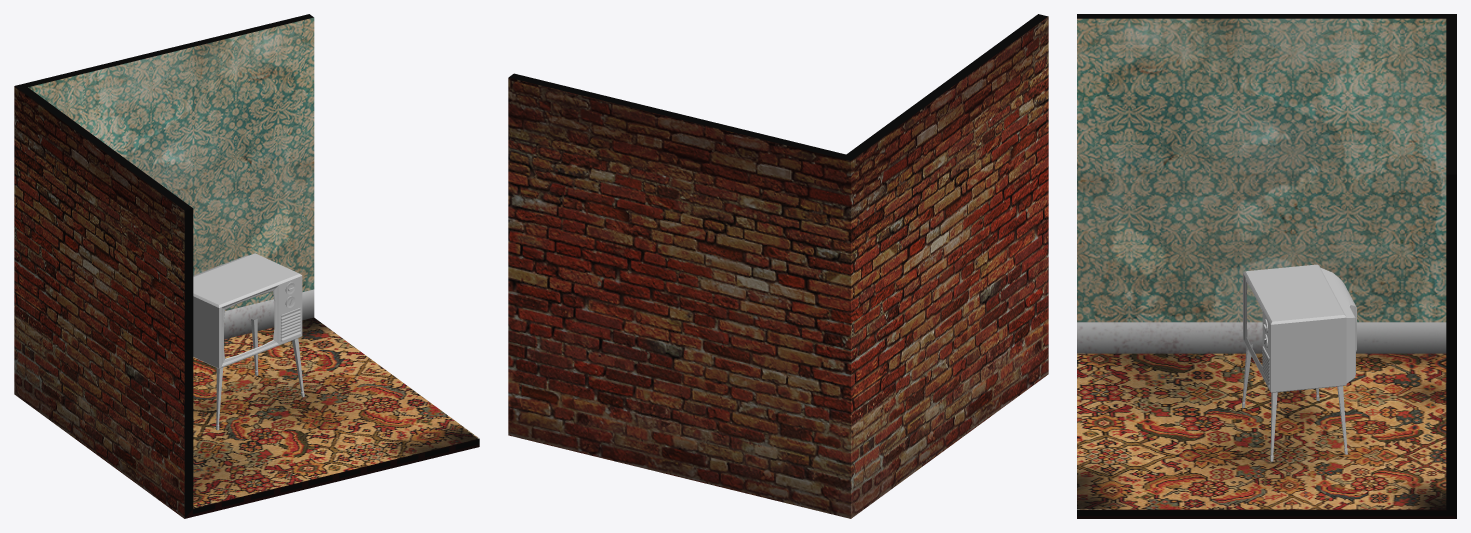
Rendered from FMAR_TV_TEST_10.gltf.
The picture shows the model from 3 angles, left to right: view 1: azimuth 30°, elevation 25°; view 2: azimuth 150°, elevation 25°; view 3: azimuth 270°, elevation 25°; orthographic projection. The views are drawn at different scales.
Parts seen in each view (by area): view 1: Base, FMARTVTEST; view 2: Base; view 3: Base, FMARTVTEST.
Part boxes in pixels (x1,y1,x2,y2): Base: [14, 14, 479, 518]; FMARTVTEST: [193, 253, 304, 430]; Base: [508, 14, 1048, 518]; Base: [1077, 14, 1456, 518]; FMARTVTEST: [1242, 264, 1356, 461].
Size of the model in its own units: 0.1501 by 0.1499 by 0.1499.
